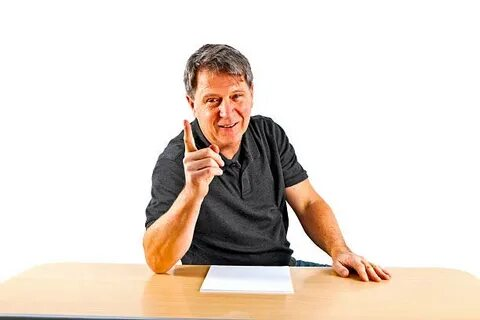awake: (142, 43, 392, 284)
